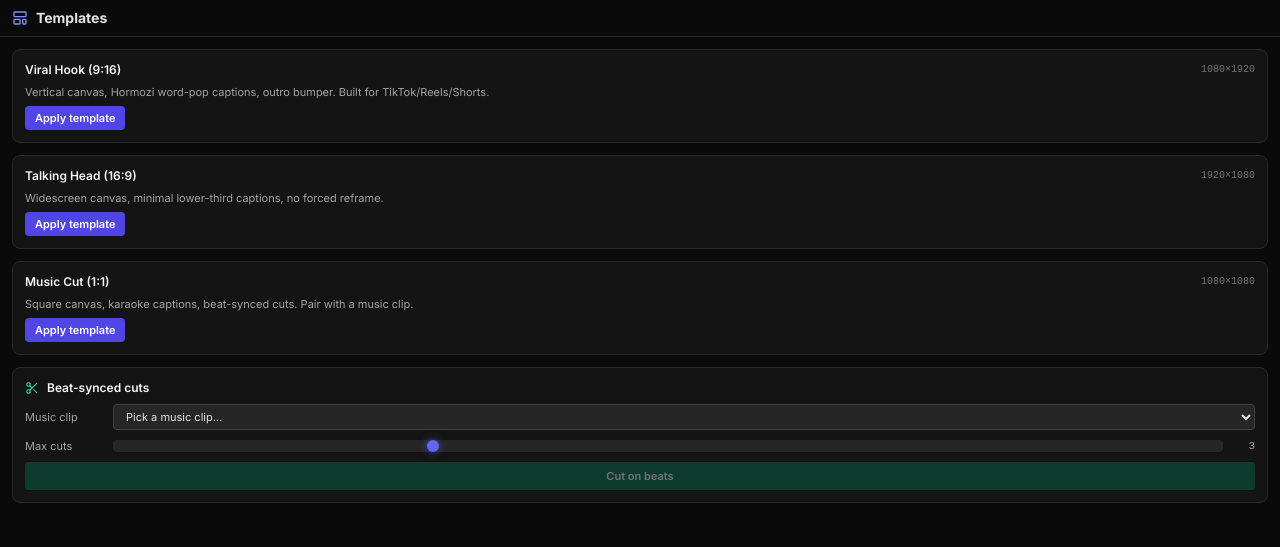
R25.4 — TemplateBrowser › cuts a music clip on real detected beats
Select "Beat.mp3" in the dropdown named "Beat source clip". click: [684, 417]
box: top-left (113, 404), bottom-right (1255, 430)
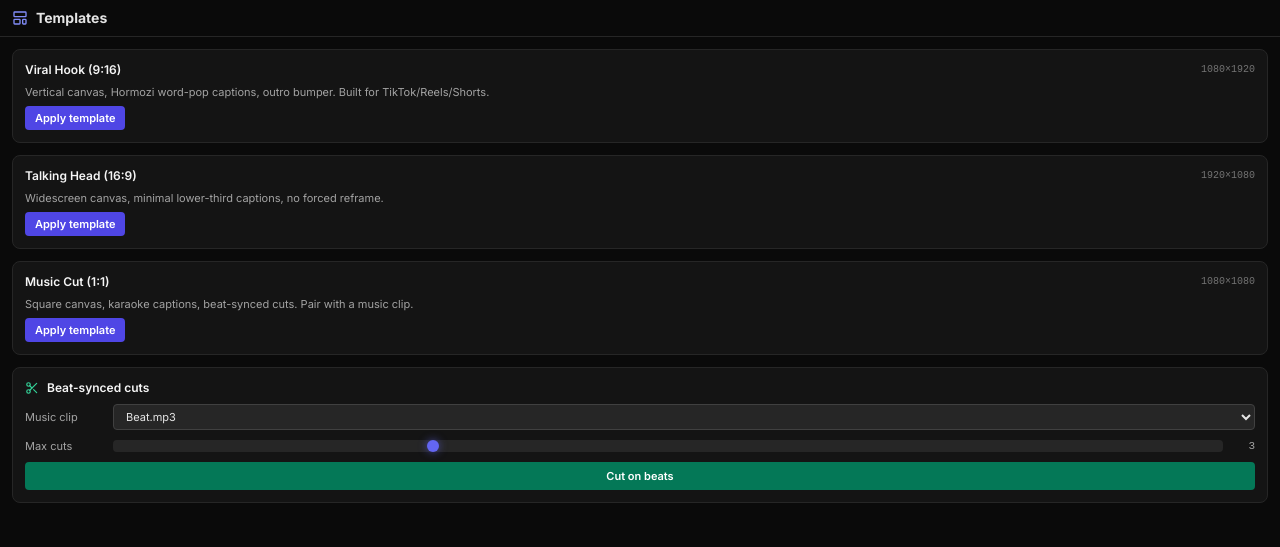
Click the button "Cut on beats". click: [640, 476]
box: top-left (25, 462), bottom-right (1255, 490)
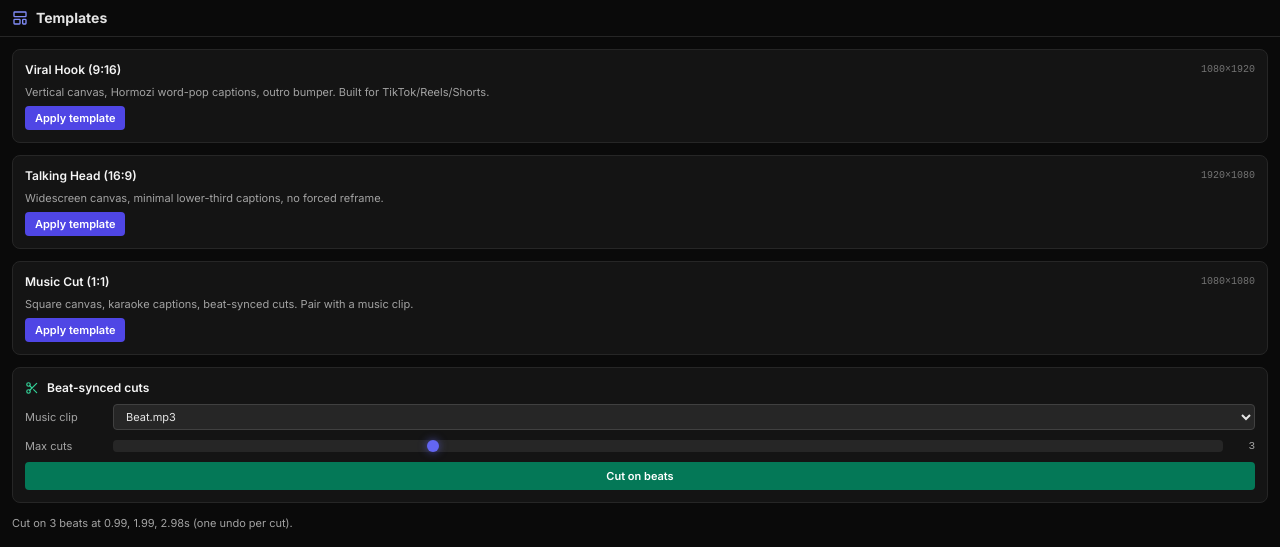
Expected: the text "Cut on 3 beats at 0.99, 1.99, 2.98s (one undo per cut)." is shown, top-left (12, 516), bottom-right (293, 530)
